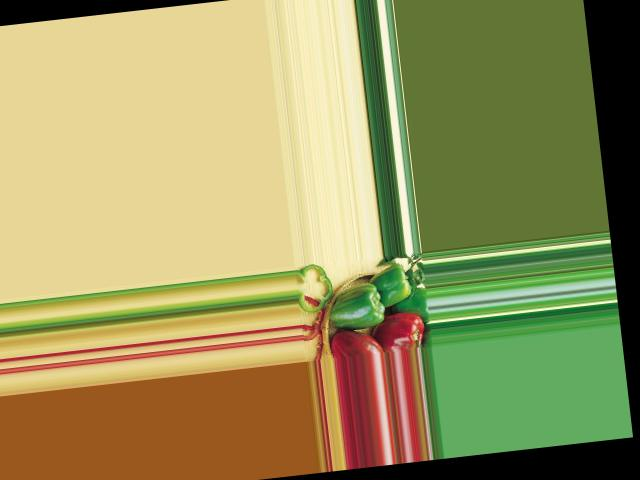bell_pepper: (328, 328, 384, 358)
